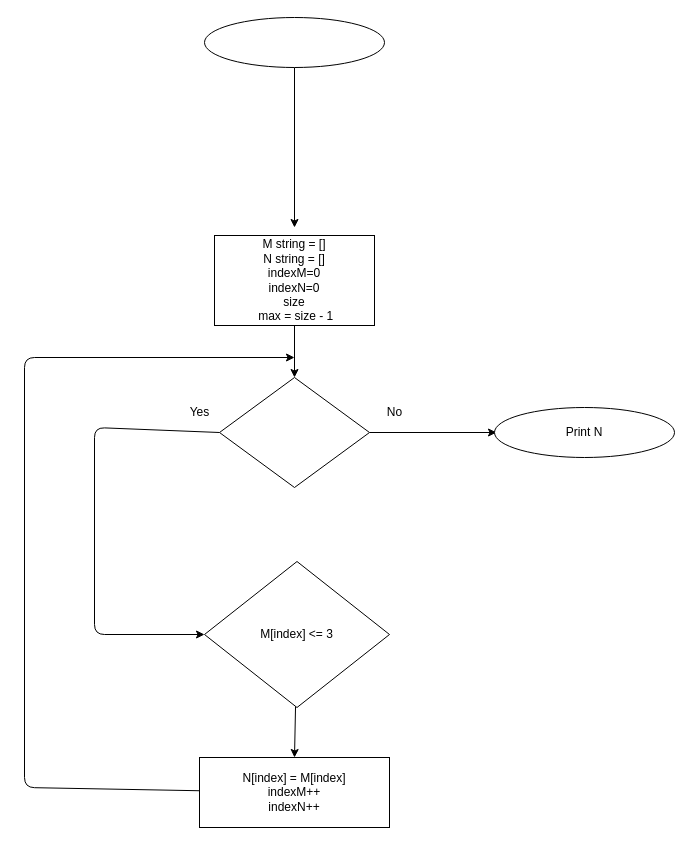
The diagram is 692 pixels wide and 845 high, and some of its shapes have lost their labels. The centre of each missing label's shape, as x and y in pixels:
indexM < max: point 294,432
Start: point 294,42
